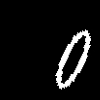chain: (55, 30, 90, 88)
